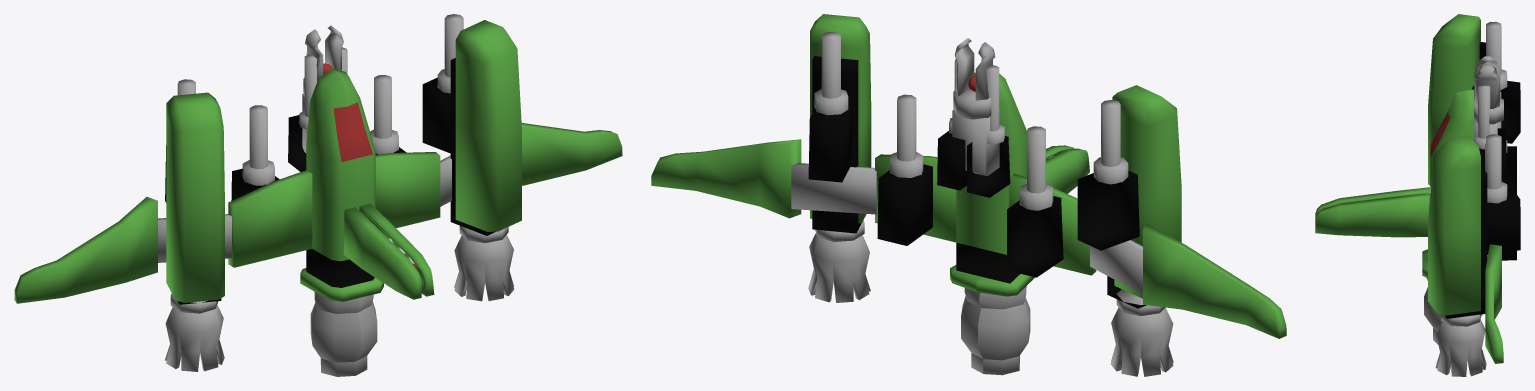
File: ship.glb
3 renders of one model, left to right at view 1: azimuth 30°, elevation 25°; view 2: azimuth 150°, elevation 25°; view 3: azimuth 270°, elevation 25°, orthographic. The views are drawn at different scales.
Parts seen in each view (by area): view 1: main, boosters, gun1, bombs, gun2, gun3, laser; view 2: main, boosters, gun2, gun3, gun1, laser, bombs; view 3: boosters, bombs, gun3, main, gun1, laser, gun2.
Part boxes in pixels (x1,y1,x2,y2): main: [14, 69, 622, 303]; boosters: [165, 20, 521, 371]; gun1: [288, 47, 377, 376]; bombs: [343, 203, 434, 299]; gun2: [231, 75, 406, 200]; gun3: [165, 14, 463, 202]; laser: [302, 25, 343, 152]; main: [651, 72, 1286, 338]; boosters: [808, 14, 1181, 376]; gun2: [877, 94, 1063, 277]; gun3: [808, 31, 1139, 250]; gun1: [937, 59, 1030, 375]; laser: [952, 38, 999, 176]; bombs: [1046, 145, 1089, 193]; boosters: [1428, 14, 1487, 376]; bombs: [1315, 187, 1429, 237]; gun3: [1472, 21, 1520, 254]; main: [1422, 89, 1503, 363]; gun1: [1424, 85, 1506, 344]; laser: [1474, 56, 1503, 136]; gun2: [1485, 92, 1516, 260].
Bounding box in the file's own units: 27.68 × 14.17 × 9.43.
